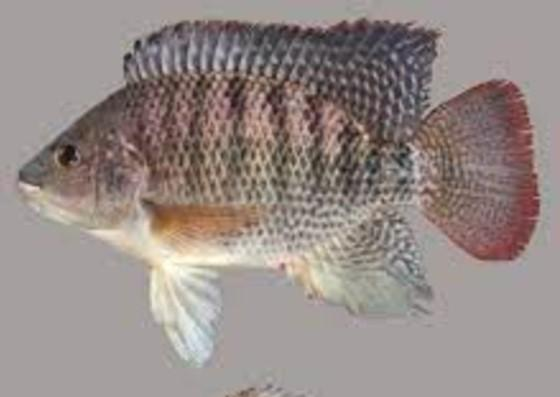Tilapia: (21, 7, 538, 367)
